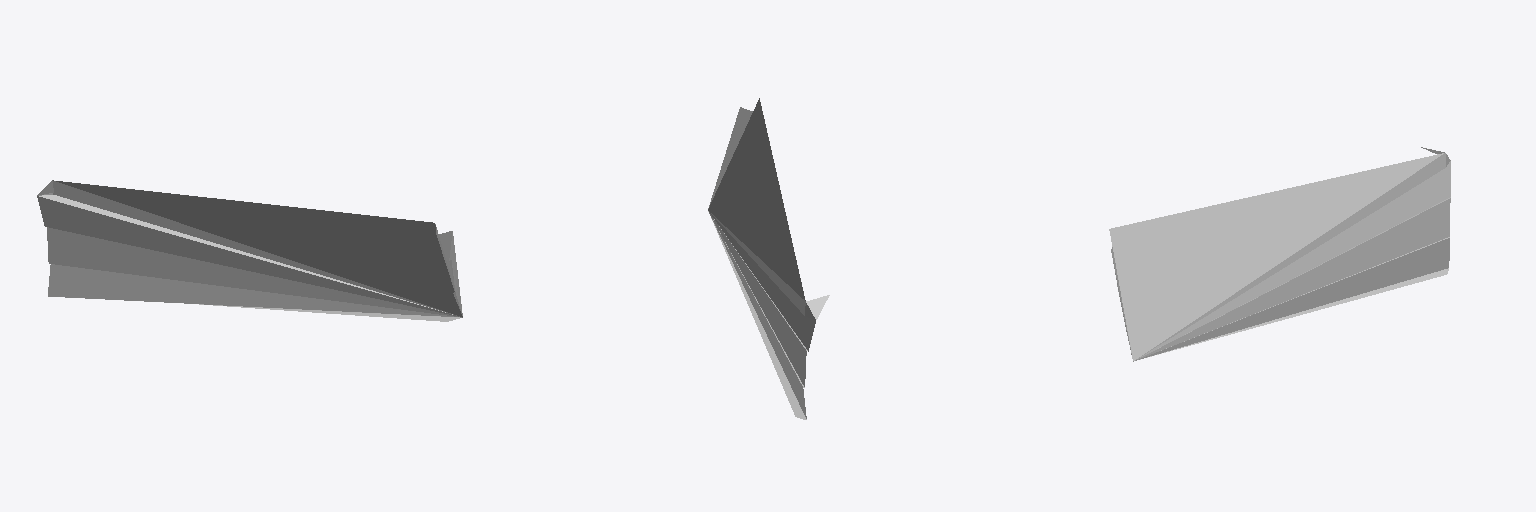
The model's file is panel.obj.
The picture shows the model from 3 angles: view 1: azimuth 30°, elevation 25°; view 2: azimuth 150°, elevation 25°; view 3: azimuth 270°, elevation 25°; orthographic projection.
Parts seen in each view (by area): view 1: blank.006; view 2: blank.006; view 3: blank.006.
Boxes of the visible parts, box(x1,y1,x2,y2) form: blank.006: box(37, 180, 462, 321); blank.006: box(708, 98, 829, 419); blank.006: box(1109, 147, 1450, 361).
Size of the model in its own units: 23.7 by 12.35 by 26.23.